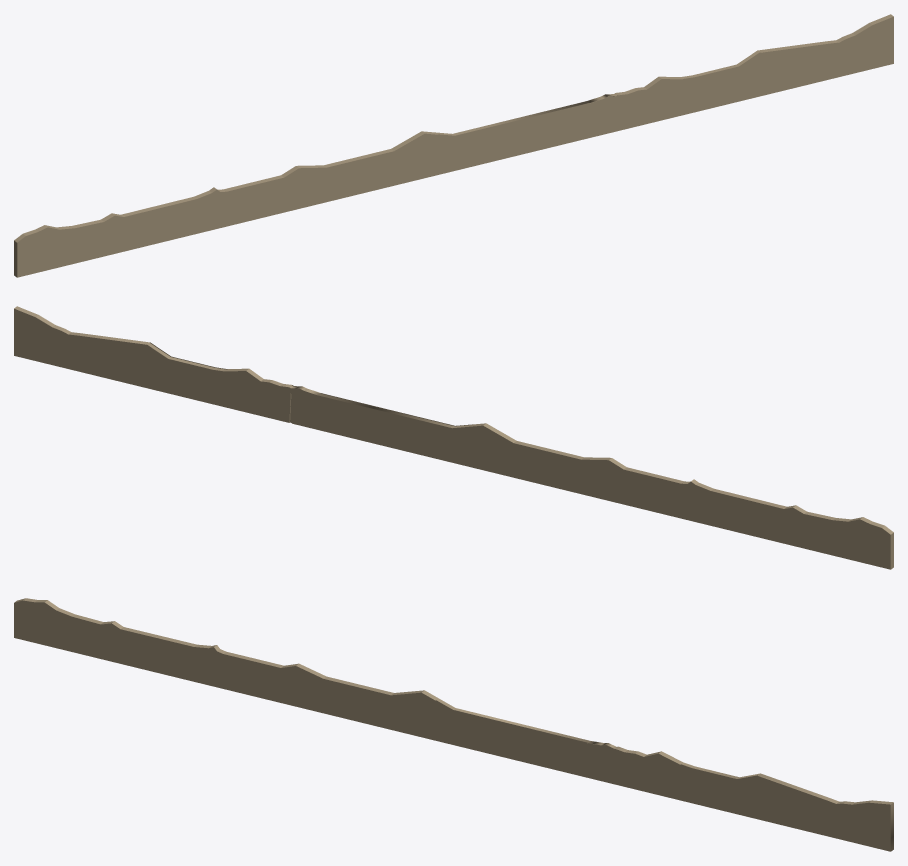
The picture shows the model from 3 angles, top to bottom: view 1: azimuth 30°, elevation 25°; view 2: azimuth 150°, elevation 25°; view 3: azimuth 330°, elevation 25°; orthographic projection.
Visible parts, largest first — view 1: layer1; view 2: layer1; view 3: layer1.
Part boxes in pixels (x1=…): layer1: x1=14, y1=14, x2=893, y2=277; layer1: x1=14, y1=306, x2=893, y2=569; layer1: x1=14, y1=598, x2=893, y2=851.
Bounding box in the file's own units: 7.96 × 0.41 × 0.05.
